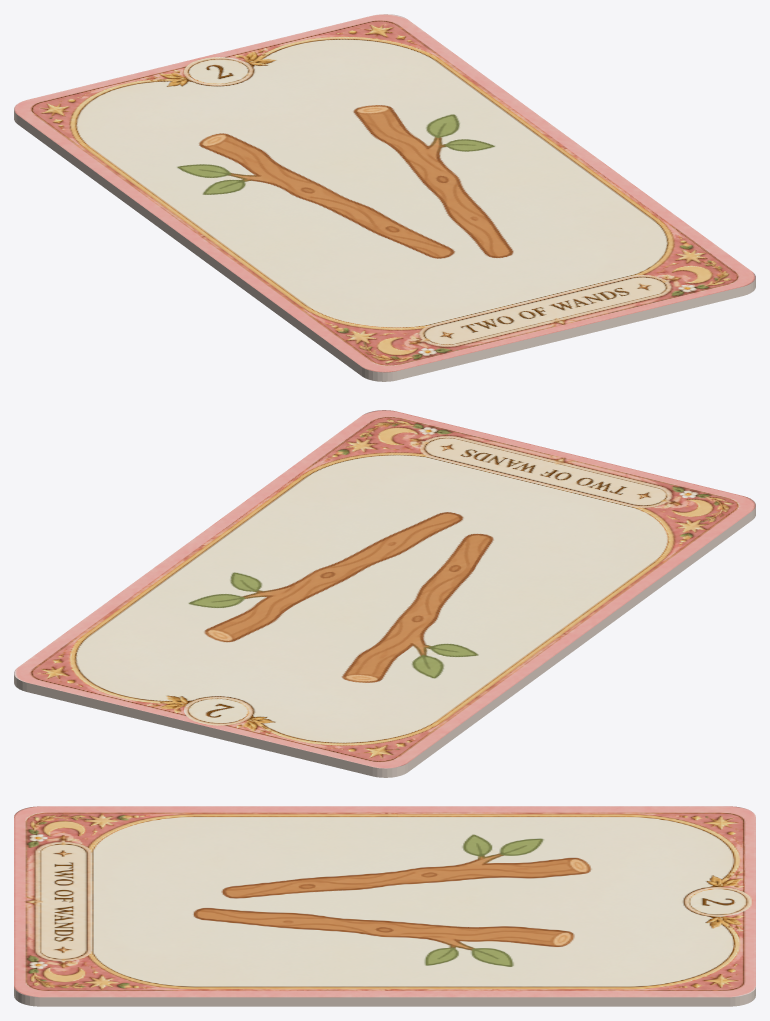
The model's file is two_of_wands.fbx.
3 views of the same model, one above another, from view 1: azimuth 30°, elevation 25°; view 2: azimuth 150°, elevation 25°; view 3: azimuth 270°, elevation 25° (orthographic).
Parts seen in each view (by area): view 1: two_of_wands; view 2: two_of_wands; view 3: two_of_wands.
Part boxes in pixels (bbox=[...]): two_of_wands: bbox=[14, 14, 755, 381]; two_of_wands: bbox=[14, 410, 755, 777]; two_of_wands: bbox=[14, 806, 755, 1006].
Size of the model in its own units: 7 by 0.16 by 11.5.
Materials: 3 (2 with a texture image).
